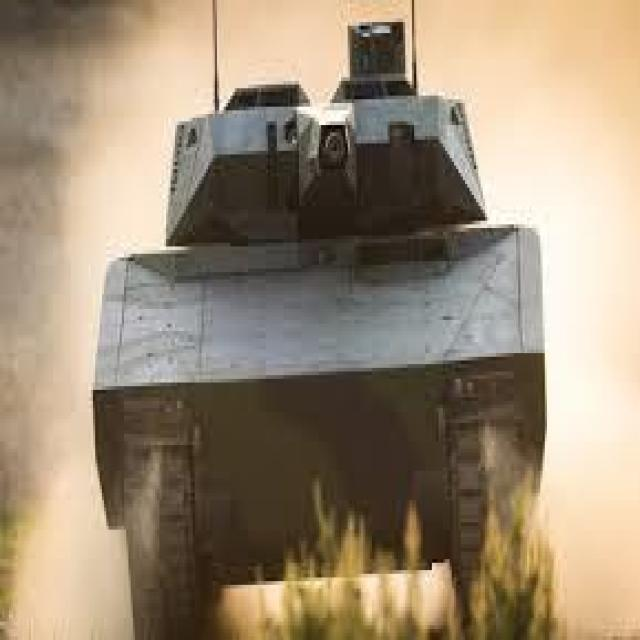Tanks: (88, 53, 556, 605)
